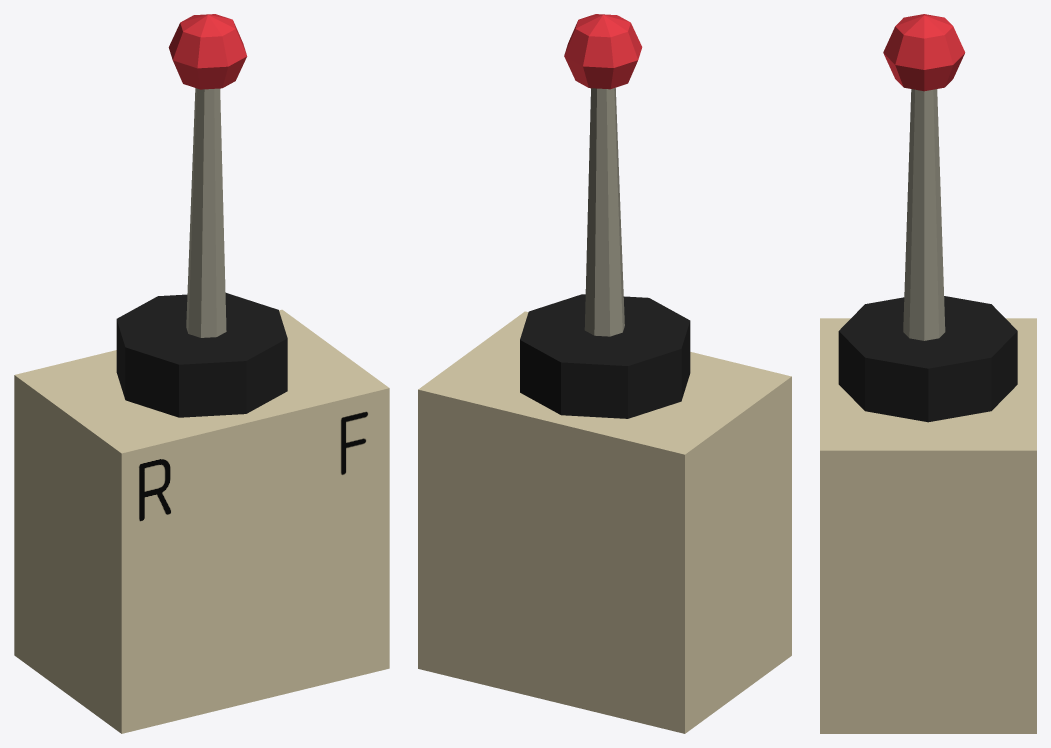
Rendered from lever_seperate.fbx.
3 renders of one model, left to right at view 1: azimuth 30°, elevation 25°; view 2: azimuth 150°, elevation 25°; view 3: azimuth 270°, elevation 25°, orthographic.
Parts seen in each view (by area): view 1: Lever Stand, Lever Switch; view 2: Lever Stand, Lever Switch; view 3: Lever Stand, Lever Switch.
Part boxes in pixels (x1,y1,x2,y2): Lever Stand: [14, 293, 389, 733]; Lever Switch: [168, 14, 247, 337]; Lever Stand: [418, 294, 791, 733]; Lever Switch: [564, 14, 642, 336]; Lever Stand: [820, 296, 1036, 733]; Lever Switch: [883, 14, 965, 340].
Size of the model in its own units: 41.09 by 94.88 by 28.49.
